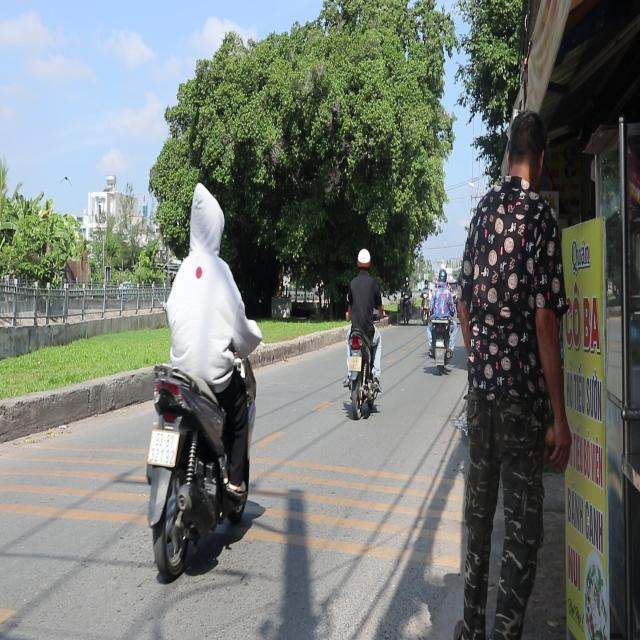helmet: (188, 183, 225, 255), (356, 247, 371, 273)
licenseplate: (143, 181, 263, 585), (341, 246, 383, 418)
nohelmet: (146, 430, 180, 466), (348, 356, 360, 371)
